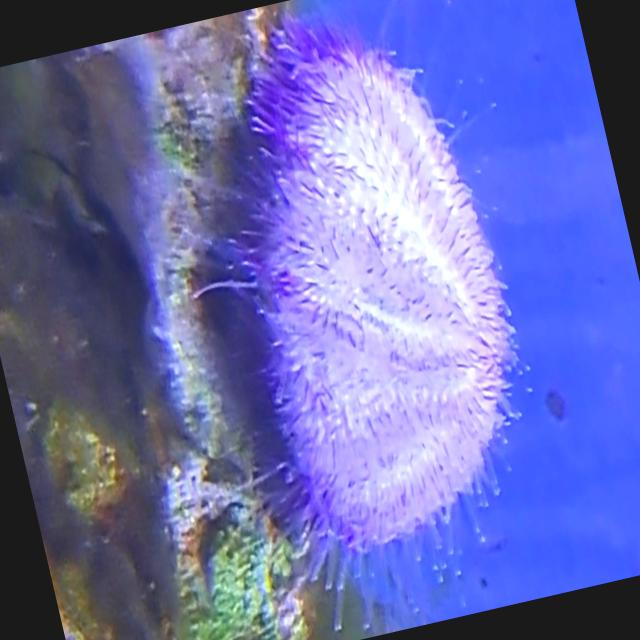Deniz Kestanesi: (153, 0, 574, 616)
